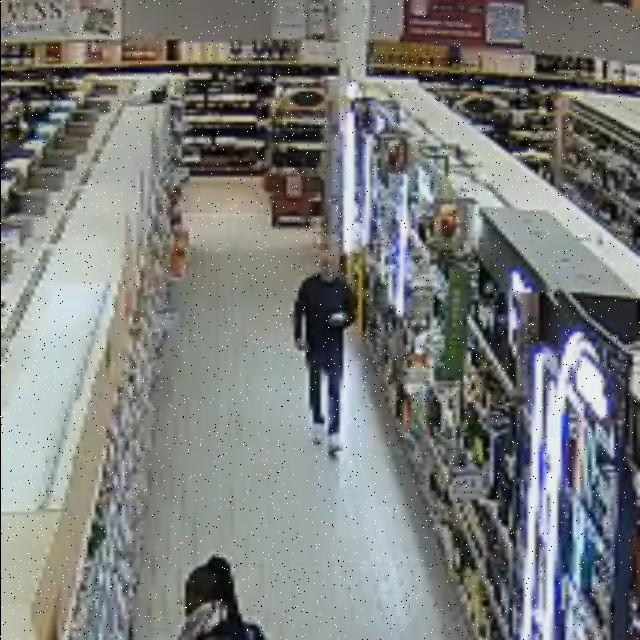article: (299, 343, 311, 350)
hands: (294, 337, 303, 349)
person: (294, 247, 355, 454), (180, 556, 264, 639)
